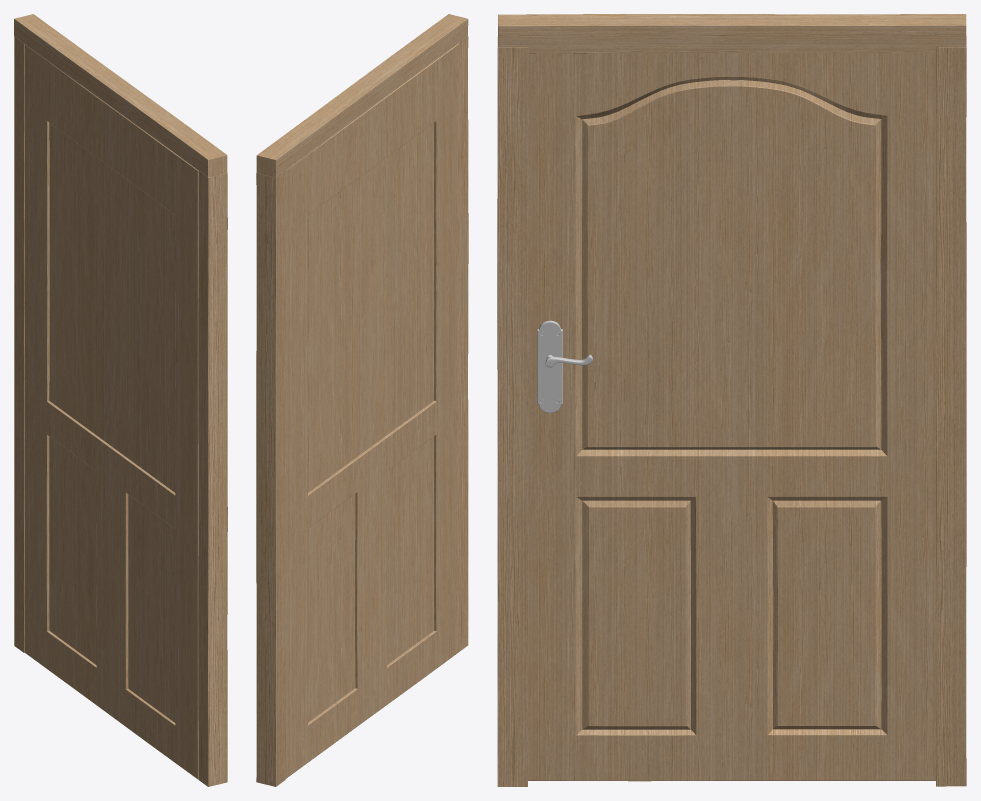
Rendered from wooden_door.glb.
3 renders of one model, left to right at view 1: azimuth 30°, elevation 25°; view 2: azimuth 150°, elevation 25°; view 3: azimuth 270°, elevation 25°, orthographic. The views are drawn at different scales.
Visible parts, largest first — view 1: door, wooden_door_bar; view 2: door, wooden_door_bar; view 3: door, wooden_door_bar, door_handle.
Boxes of the visible parts, box(x1,y1,x2,y2) form: door: box(24, 44, 198, 779); wooden_door_bar: box(14, 14, 227, 786); door: box(285, 43, 458, 778); wooden_door_bar: box(256, 14, 468, 786); door: box(528, 47, 936, 781); wooden_door_bar: box(497, 14, 966, 786); door_handle: box(537, 320, 592, 413).
Size of the model in its own units: 0.0827 by 2.19 by 1.23.
Materials: 2 (2 with a texture image).
